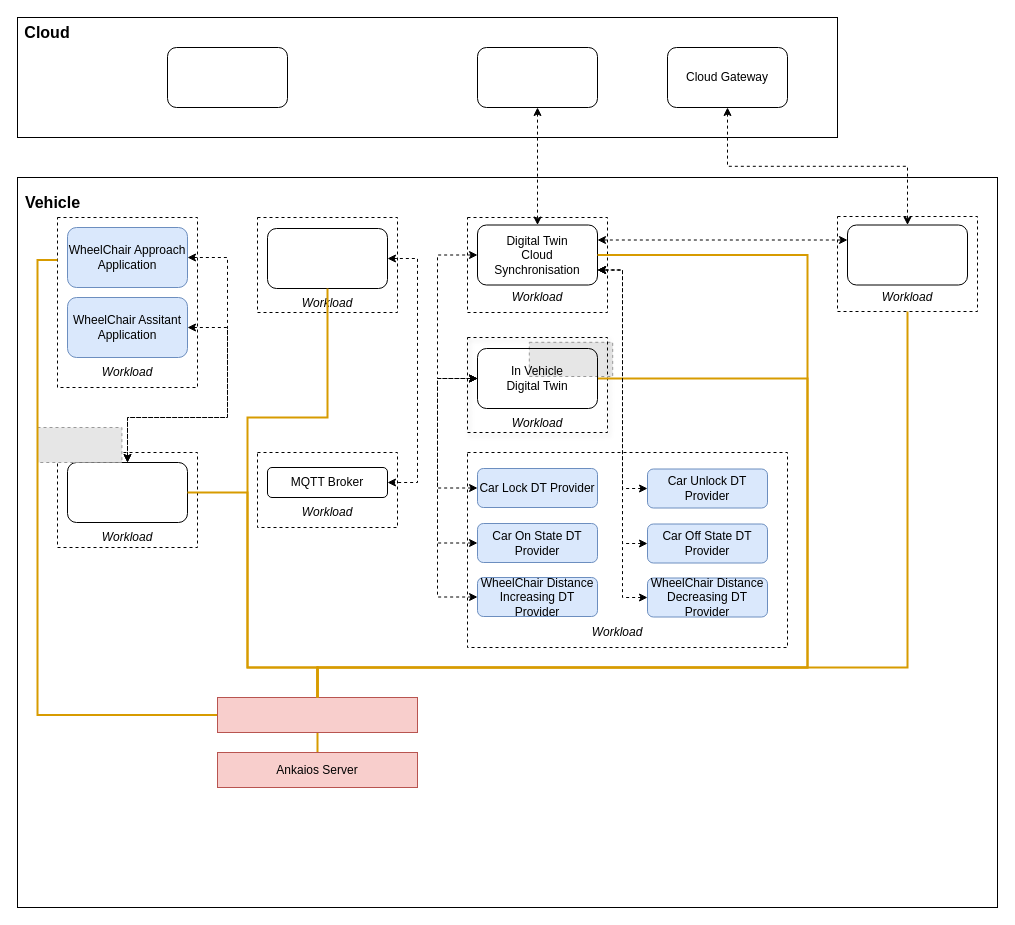
This 1015x925 diagram has some shape labels left out. Grey dashed boxes stand in for pictures. The centre of each missing label's shape, as x and y in pixels:
"Ankaios Agent" belongs at (x=317, y=714).
"Artifact Repository" belongs at (x=227, y=77).
"Cloud Connector" belongs at (x=907, y=254).
"Digital Twin Mapping Service" belongs at (x=537, y=77).
"Dynamic Topic Management" belongs at (x=327, y=258).
"Service Registry" belongs at (x=127, y=492).
